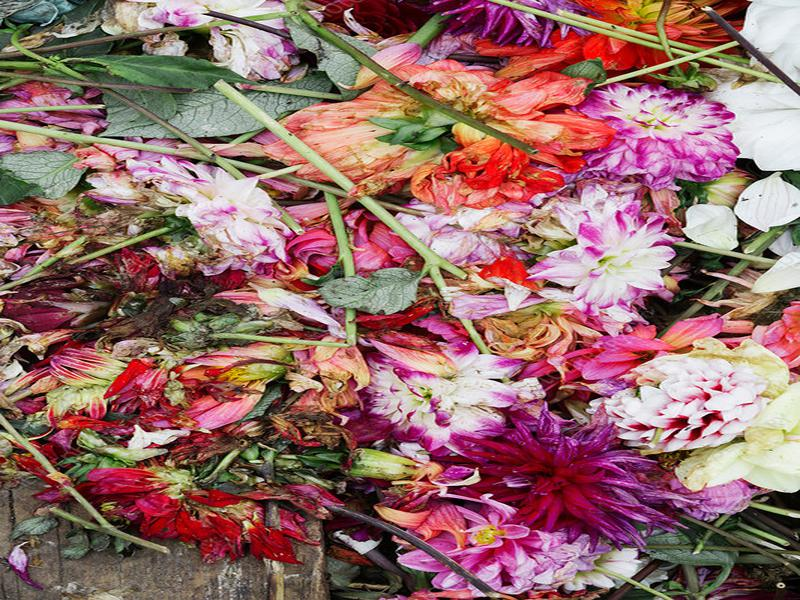flowers: (2, 3, 800, 600)
leaf: (85, 46, 261, 96)
